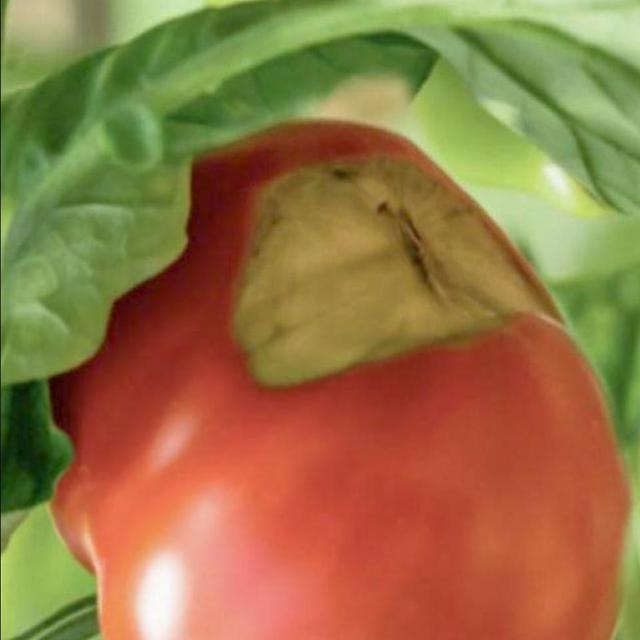Blossom End Rot Fruit: (132, 92, 422, 275)
